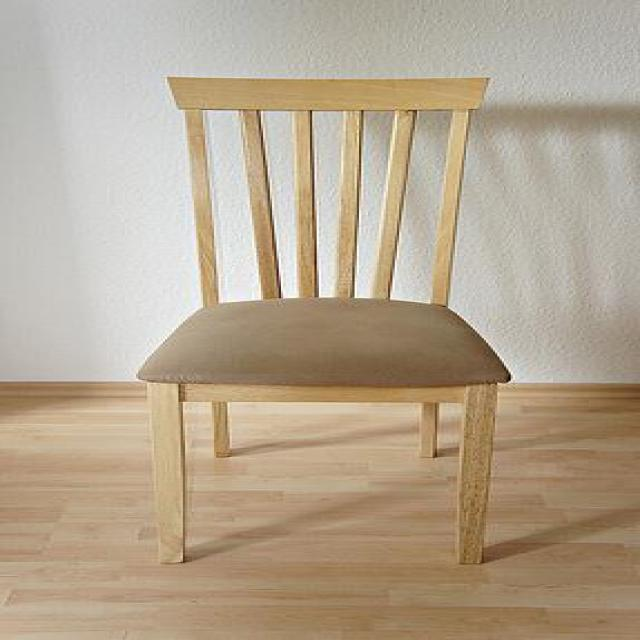chair: (136, 74, 511, 564)
